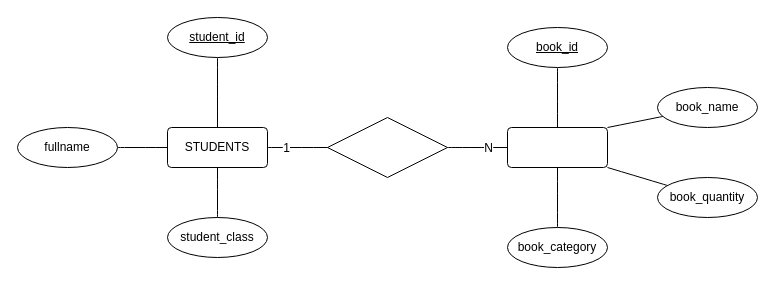
Some shapes in this 775 by 285 pixel diagram are drawn without their labels. The shapes that lost their labels are listed below. From the top down, each one's centre as x and y in pixels, then its label:
At point (387, 147): "borrowed".
At point (557, 147): "BOOKS".
